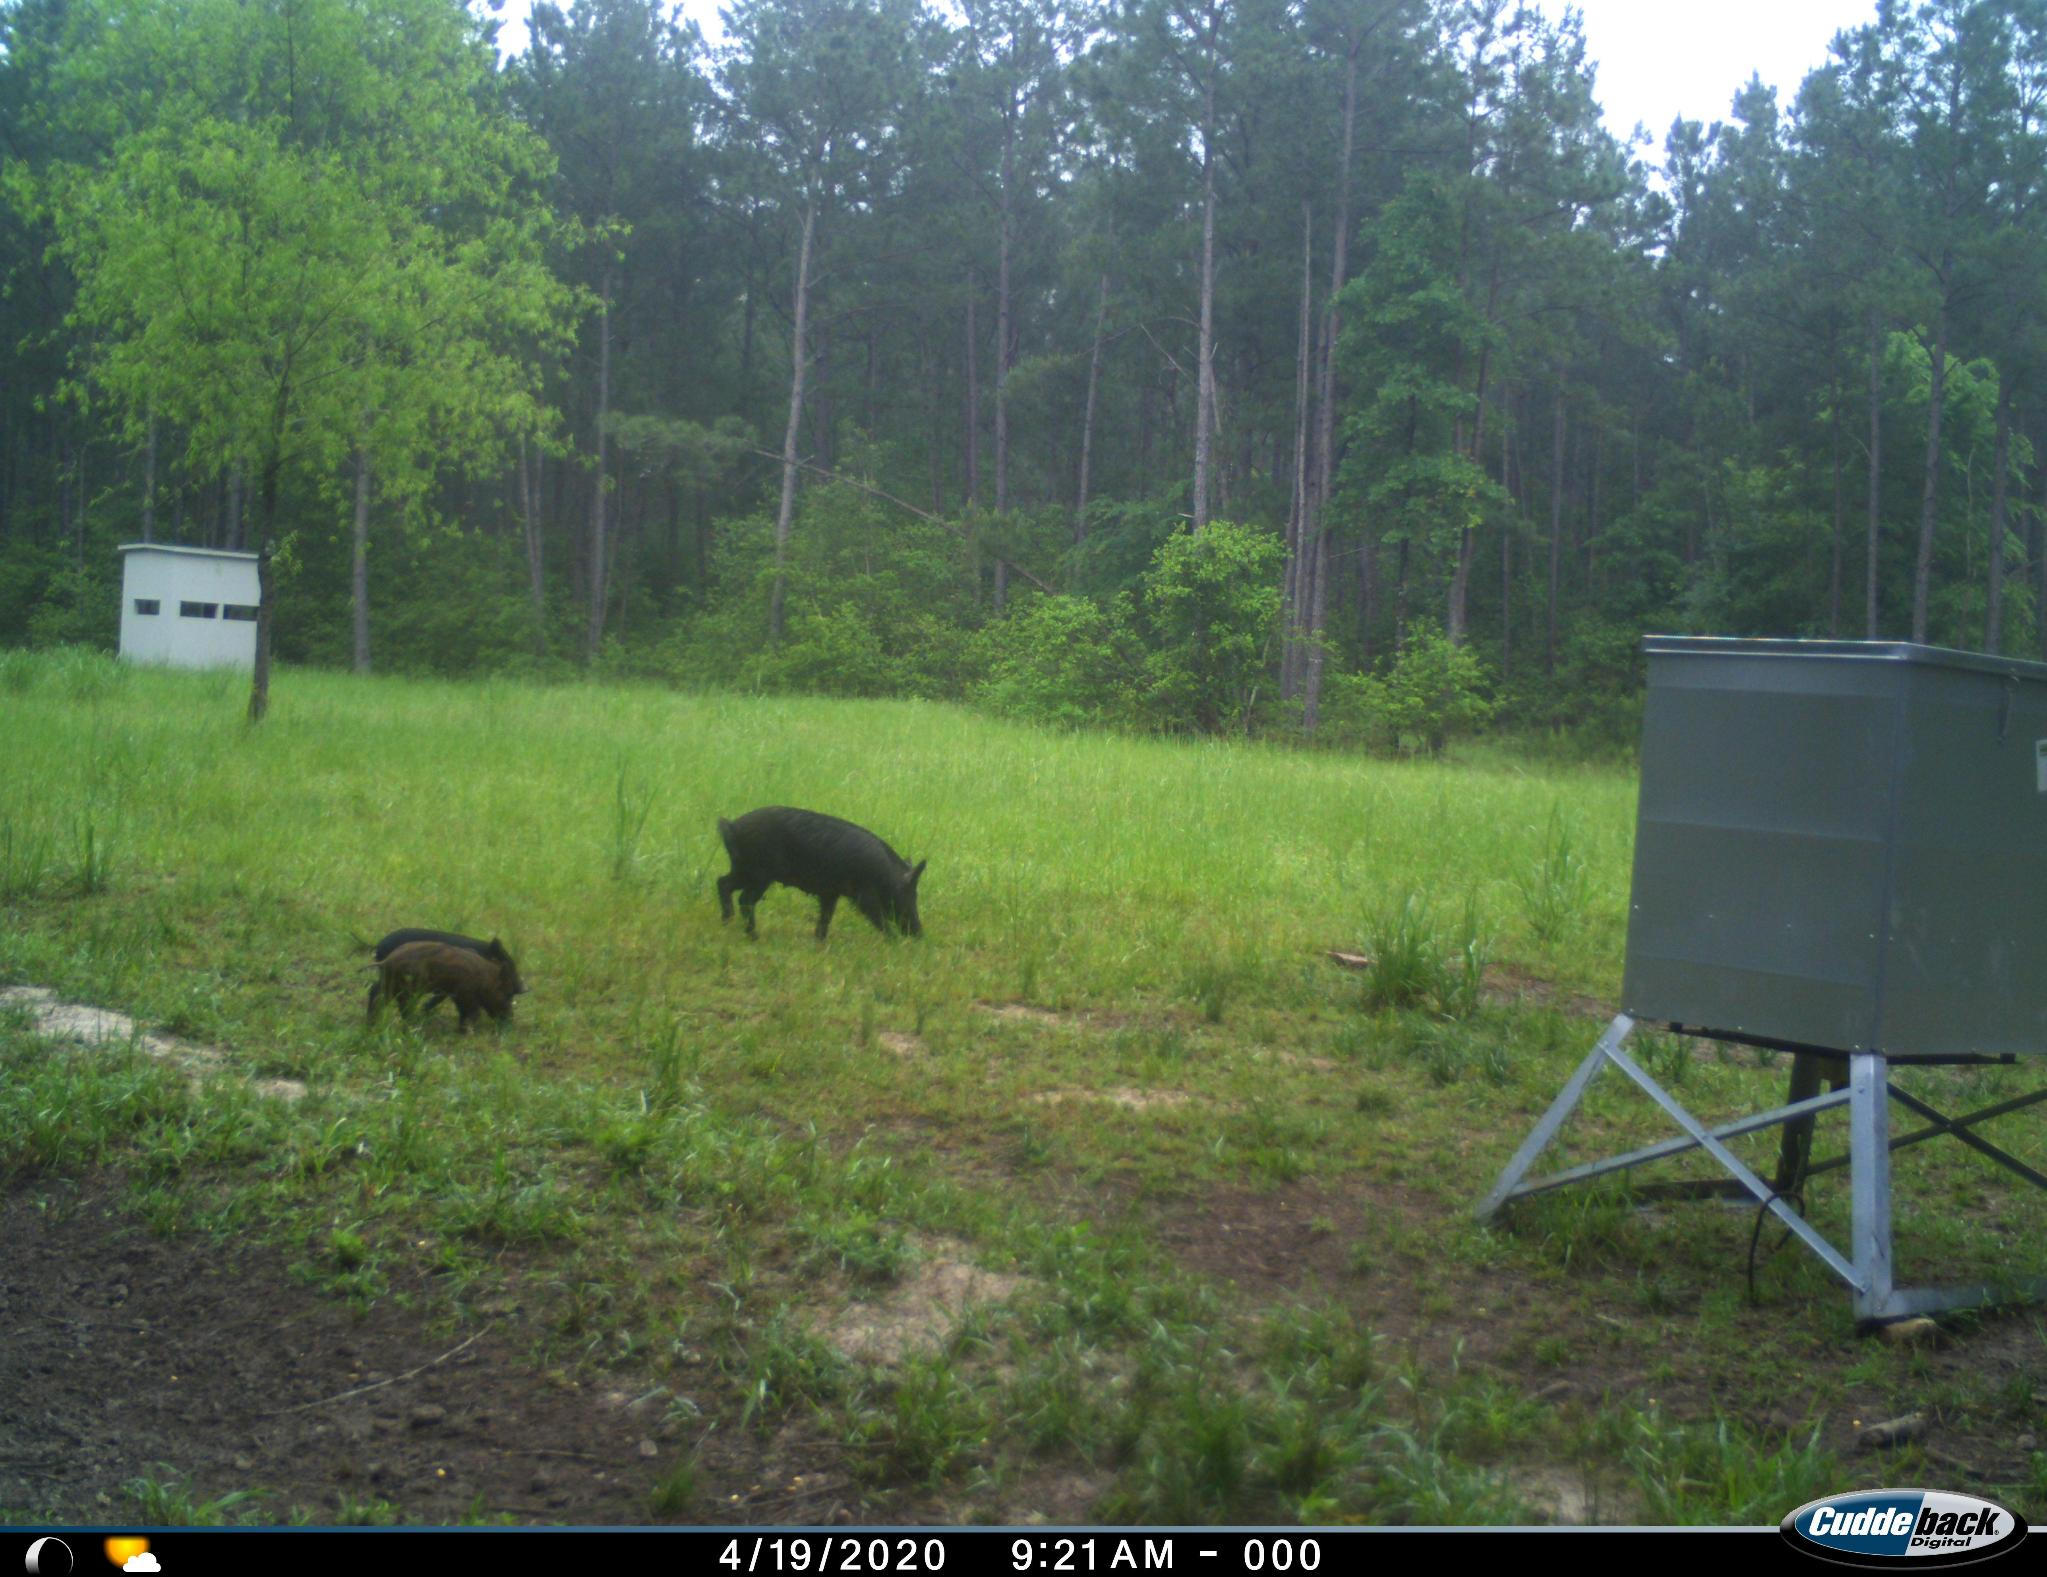Hog: (701, 798, 951, 974), (363, 936, 523, 1035)
